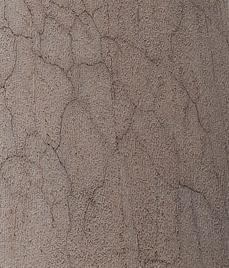retracao: (2, 1, 229, 268)
